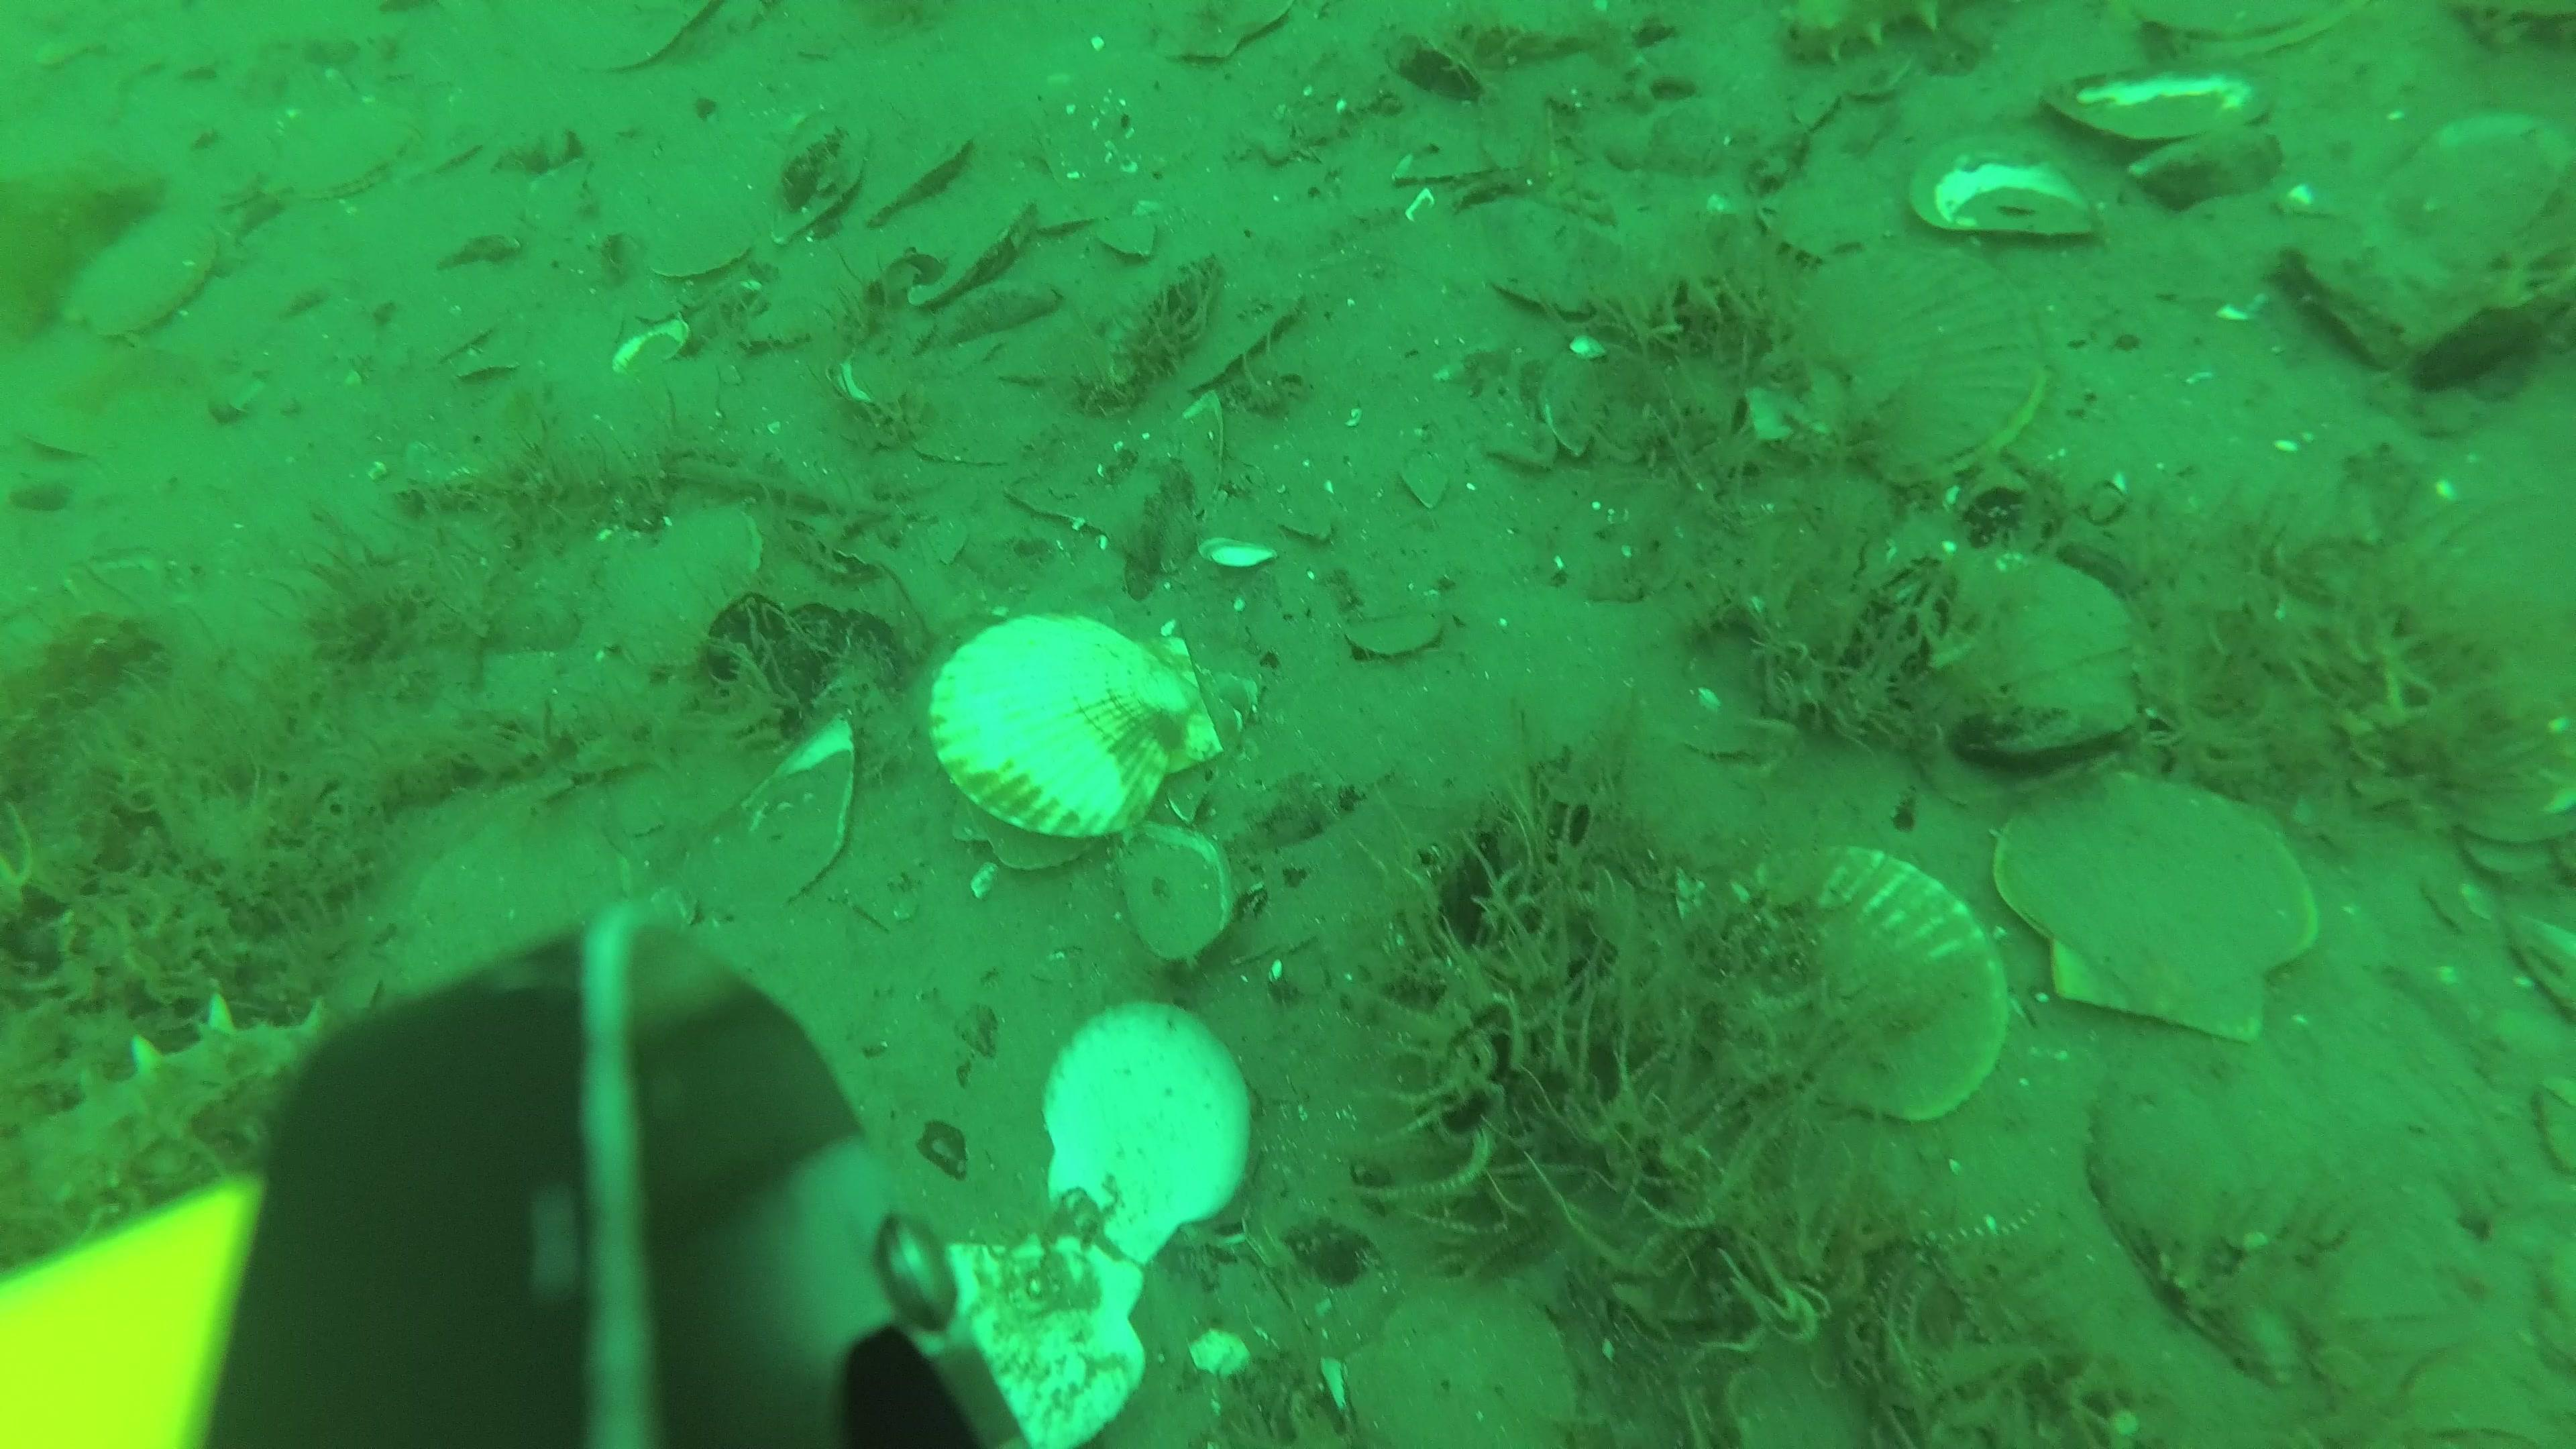holothurian: (5, 989, 331, 1242), (1778, 4, 1936, 60)
scallop: (1987, 752, 2328, 1047), (1709, 851, 2015, 1125), (916, 603, 1223, 860), (1776, 244, 2058, 481), (1902, 534, 2150, 764), (1037, 996, 1249, 1263), (925, 1221, 1155, 1449), (1338, 1274, 1576, 1449), (598, 511, 764, 678), (58, 200, 223, 341)
